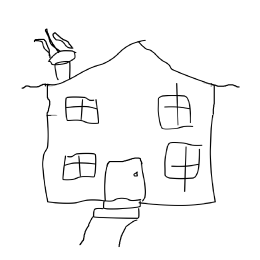closed_window: (160, 137, 205, 181), (154, 87, 196, 130), (59, 147, 101, 187), (59, 90, 100, 128)
door: (101, 150, 154, 207)
single_line_roof: (17, 34, 245, 93)
smoking_chimney: (32, 25, 90, 84)
wall: (37, 88, 218, 211)
